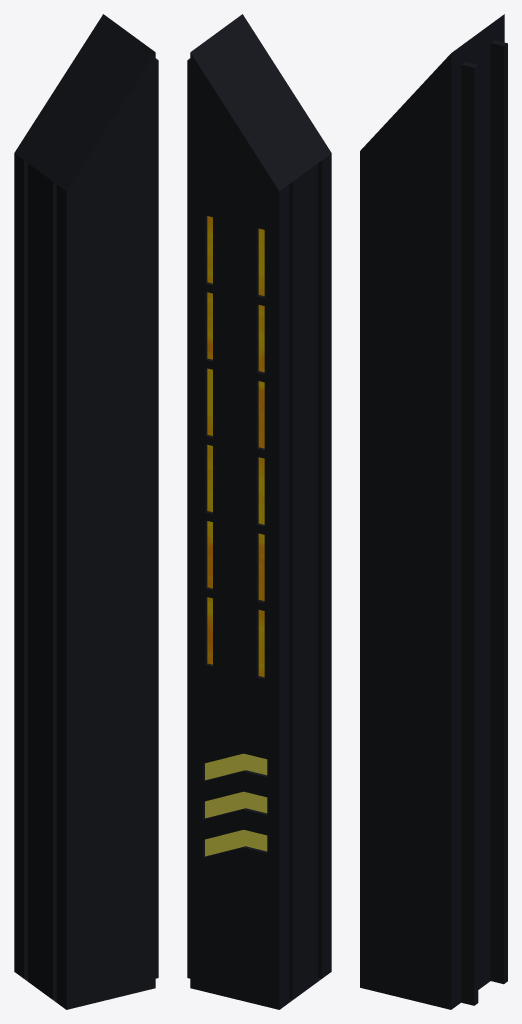
File: test_decor_5.fbx
The picture shows the model from 3 angles, left to right: view 1: azimuth 30°, elevation 25°; view 2: azimuth 150°, elevation 25°; view 3: azimuth 330°, elevation 25°; orthographic projection. The views are drawn at different scales.
Visible parts, largest first — view 1: Cube.031; view 2: Cube.031; view 3: Cube.031.
Boxes of the visible parts, x1=… form: Cube.031: x1=14, y1=14, x2=158, y2=1009; Cube.031: x1=187, y1=14, x2=331, y2=1009; Cube.031: x1=360, y1=14, x2=507, y2=1009.
Size of the model in its own units: 418 by 3665 by 371.
